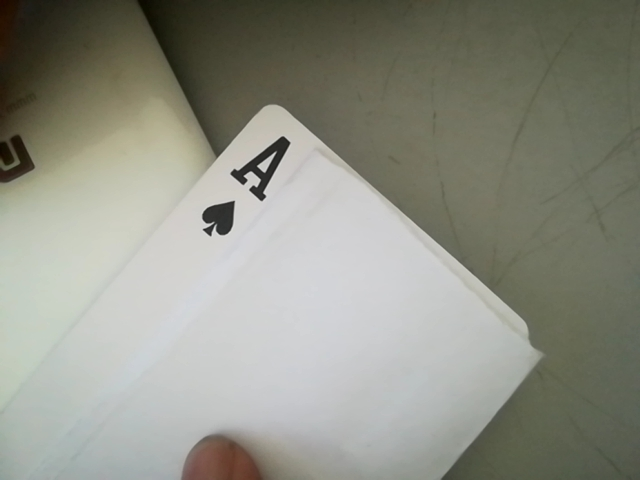ht a: (182, 123, 315, 244)
